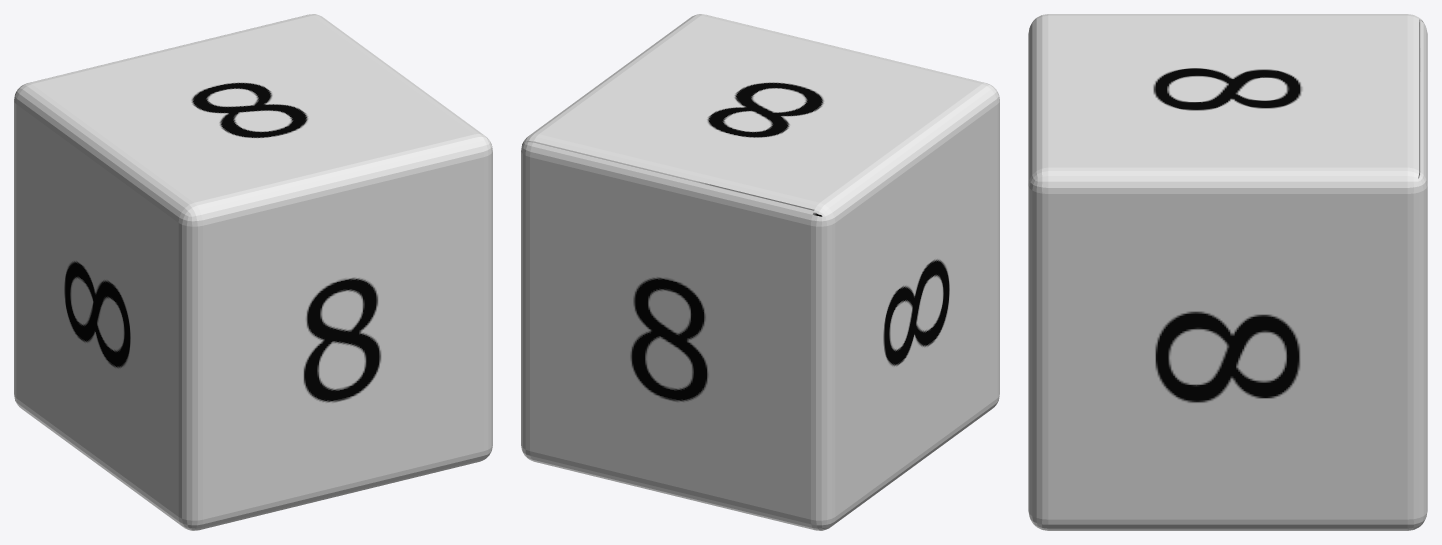
The model's file is Key8.fbx.
3 renders of one model, left to right at view 1: azimuth 30°, elevation 25°; view 2: azimuth 150°, elevation 25°; view 3: azimuth 270°, elevation 25°, orthographic. The views are drawn at different scales.
Parts seen in each view (by area): view 1: Cube; view 2: Cube; view 3: Cube.
Part boxes in pixels (<box>): Cube: <box>14,14,492,530</box>; Cube: <box>521,14,999,530</box>; Cube: <box>1028,14,1427,530</box>.
Bounding box in the file's own units: 200 × 200 × 200.
1 material, 1 textured.
